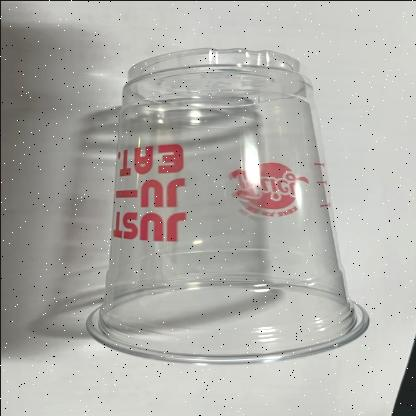Others: (80, 46, 374, 366)
